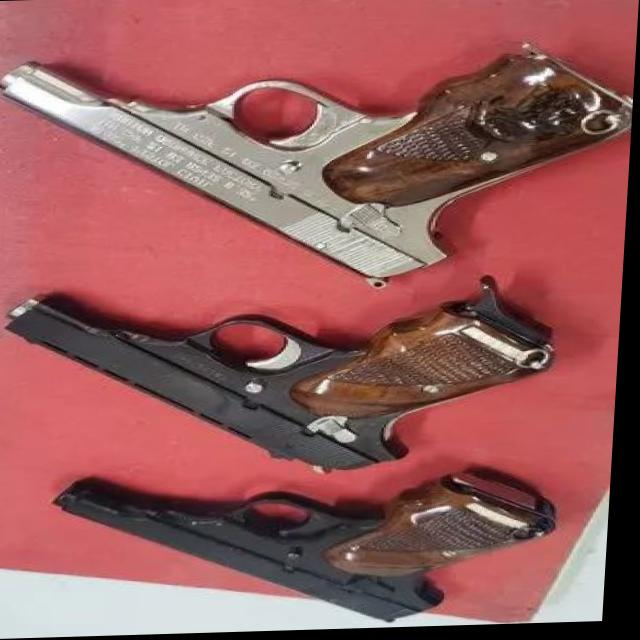handgun: (0, 46, 636, 292), (0, 284, 561, 480), (54, 470, 561, 630)
